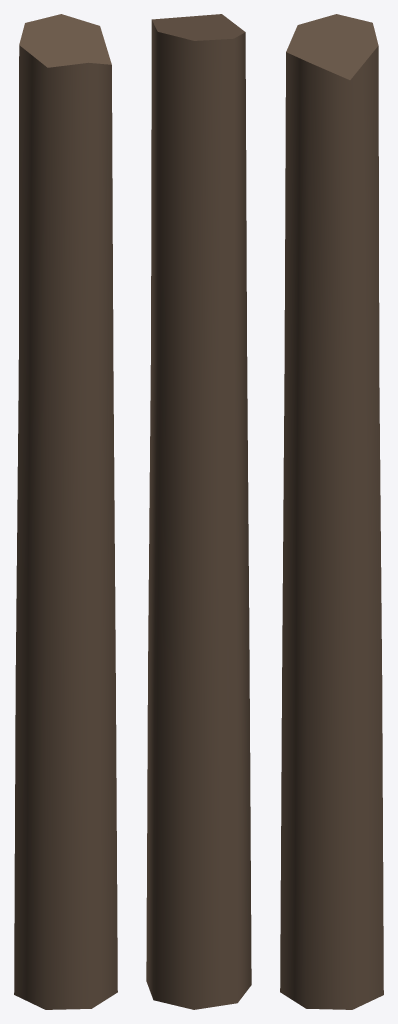
File: groyne-post-2.glb
3 views of the same model, side by side, from view 1: azimuth 30°, elevation 25°; view 2: azimuth 150°, elevation 25°; view 3: azimuth 330°, elevation 25° (orthographic).
Visible parts, largest first — view 1: groyne-post-2; view 2: groyne-post-2; view 3: groyne-post-2.
Part boxes in pixels (box(x1,y1,x2,y2)): groyne-post-2: box(14, 14, 117, 1009); groyne-post-2: box(146, 14, 251, 1009); groyne-post-2: box(280, 14, 383, 1009).
Size of the model in its own units: 0.3892 by 3.95 by 0.3797.
